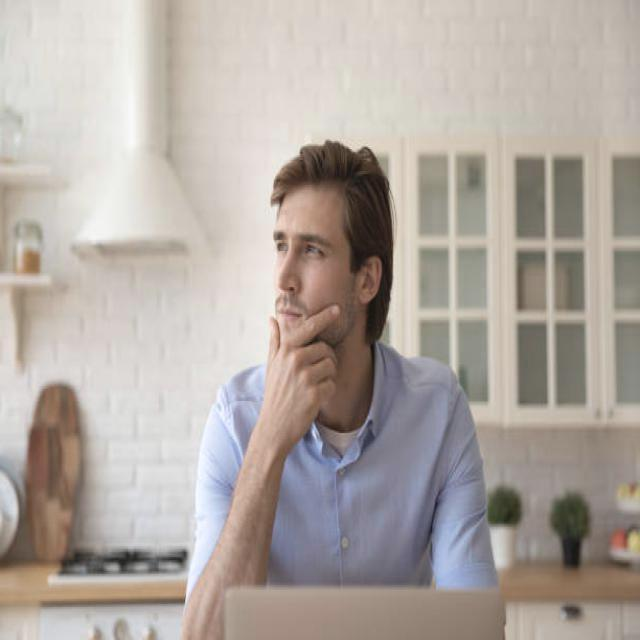Looking away: (270, 190, 348, 362)
